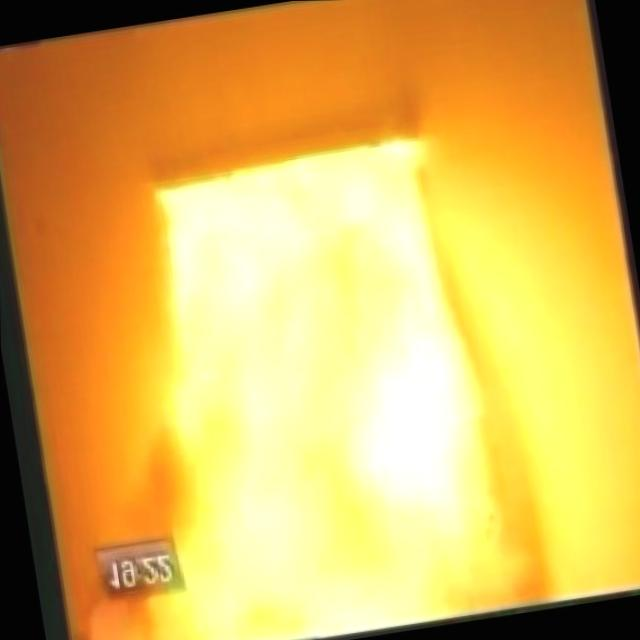fire: (33, 77, 589, 640)
